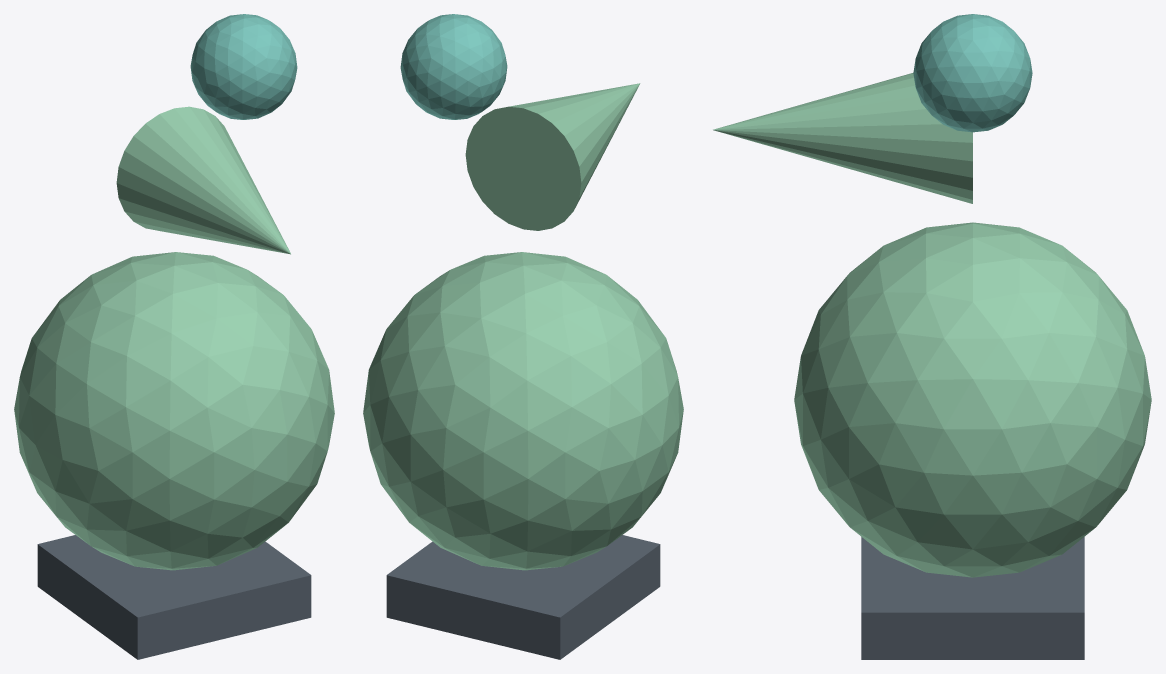
Rendered from neural_seeder.glb.
3 views of the same model, side by side, from view 1: azimuth 30°, elevation 25°; view 2: azimuth 150°, elevation 25°; view 3: azimuth 270°, elevation 25° (orthographic). The views are drawn at different scales.
Visible parts, largest first — view 1: geometry_0, geometry_3, geometry_1, geometry_2; view 2: geometry_0, geometry_3, geometry_1, geometry_2; view 3: geometry_0, geometry_3, geometry_1, geometry_2.
Part boxes in pixels (x1,y1,x2,y2): geometry_0: (14,252,334,570); geometry_3: (37,535,311,659); geometry_1: (116,106,290,254); geometry_2: (190,14,297,119); geometry_0: (363,252,683,570); geometry_3: (386,535,660,659); geometry_1: (465,83,640,230); geometry_2: (400,14,507,119); geometry_0: (794,222,1151,577); geometry_3: (861,537,1084,659); geometry_1: (713,73,972,203); geometry_2: (913,14,1032,132).
Size of the model in its own units: 0.48 by 0.935 by 0.59.
